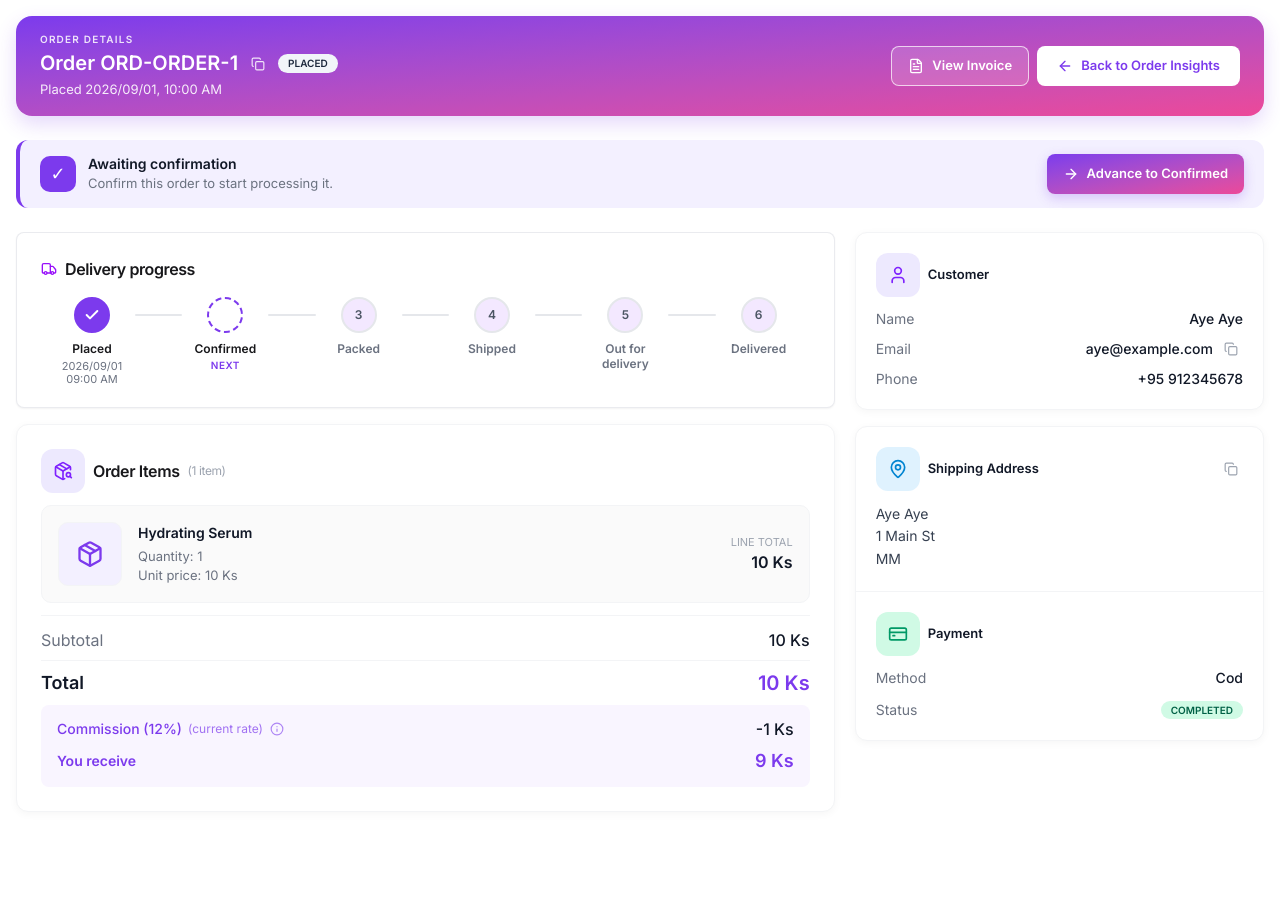
Test: MerchantOrderDetailPage › reports a collected payment once the order payment is completed
Click the button "View Invoice".
click(960, 66)  # box [891,46,1029,86]
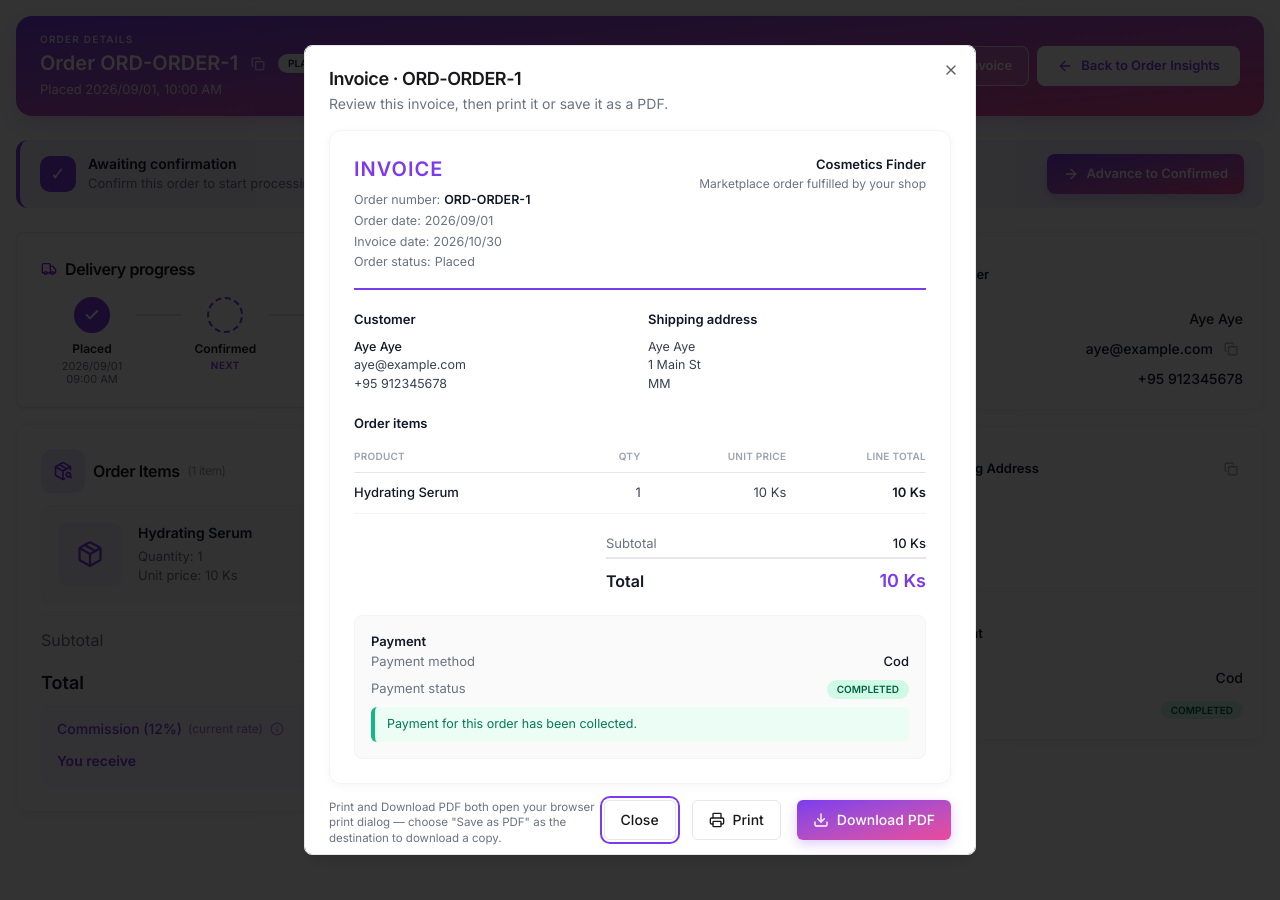
Expected: the text "completed" is shown, [827,680,909,698]
Expected: the text "Payment for this order has been collected." is shown, [371,707,909,742]
